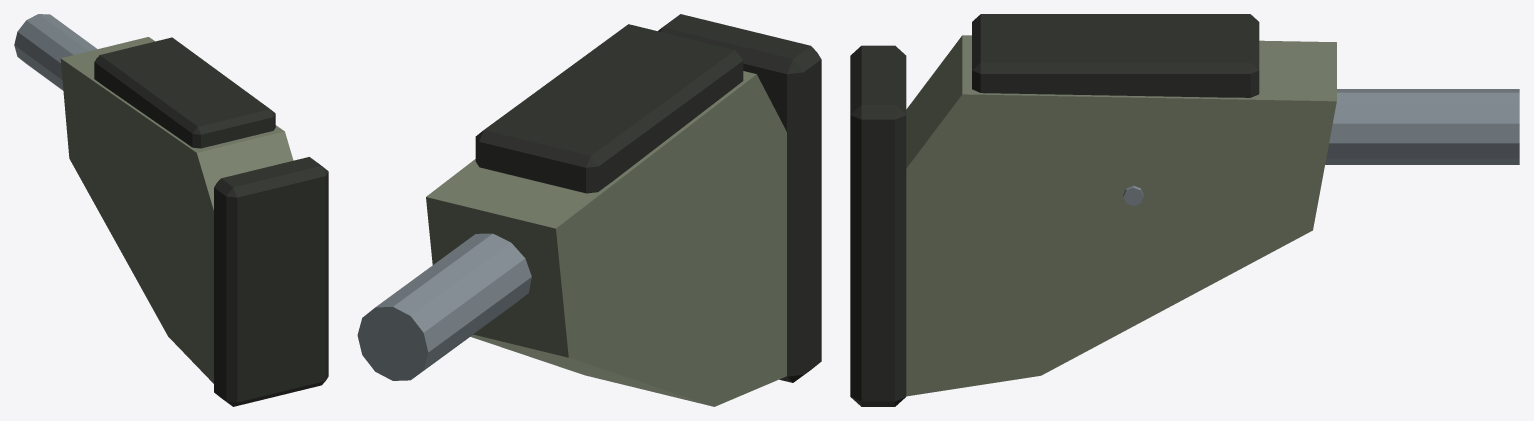
Rendered from att_stock_yak.glb.
3 views of the same model, side by side, from view 1: azimuth 30°, elevation 25°; view 2: azimuth 150°, elevation 25°; view 3: azimuth 270°, elevation 25° (orthographic). The views are drawn at different scales.
Visible parts, largest first — view 1: Geometry_att_stock_yak; view 2: Geometry_att_stock_yak; view 3: Geometry_att_stock_yak.
Part boxes in pixels (x1,y1,x2,y2): Geometry_att_stock_yak: (14,14,328,406); Geometry_att_stock_yak: (357,14,821,406); Geometry_att_stock_yak: (850,14,1519,406).
Bounding box in the file's own units: 0.067 × 0.147 × 0.263.
